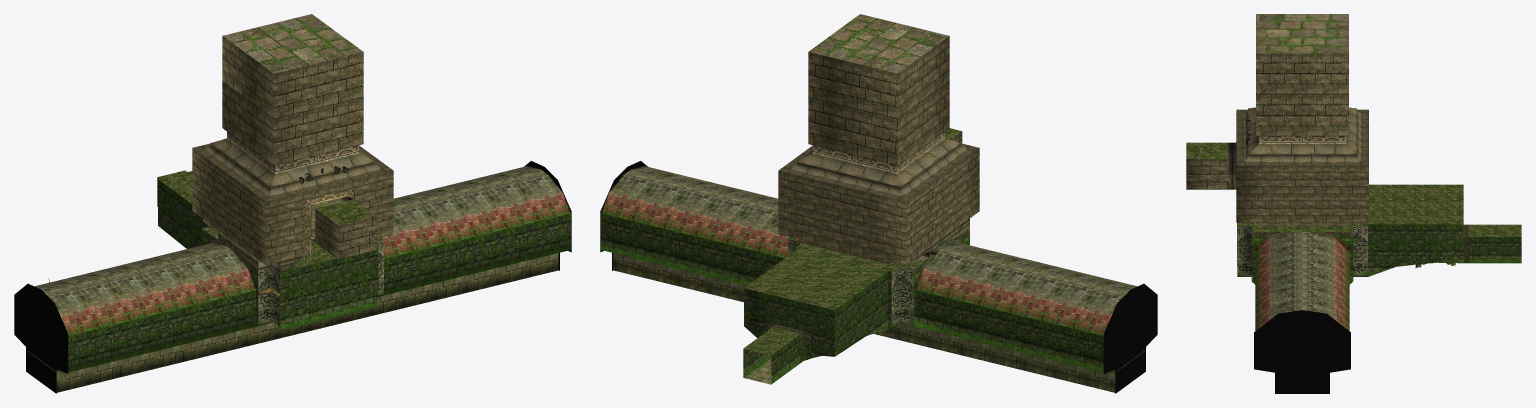
Rendered from clocktown_inside_tower_combined.dae.
3 views of the same model, side by side, from view 1: azimuth 30°, elevation 25°; view 2: azimuth 150°, elevation 25°; view 3: azimuth 270°, elevation 25° (orthographic). The views are drawn at different scales.
Parts seen in each view (by area): view 1: interior; view 2: interior; view 3: interior.
Boxes of the visible parts, left/top/right/bottom form: interior: left=14, top=14, right=571, bottom=393; interior: left=600, top=14, right=1157, bottom=393; interior: left=1186, top=14, right=1521, bottom=393.
Bounding box in the file's own units: 21.64 × 13.85 × 11.39.
22 materials, 22 textured.
